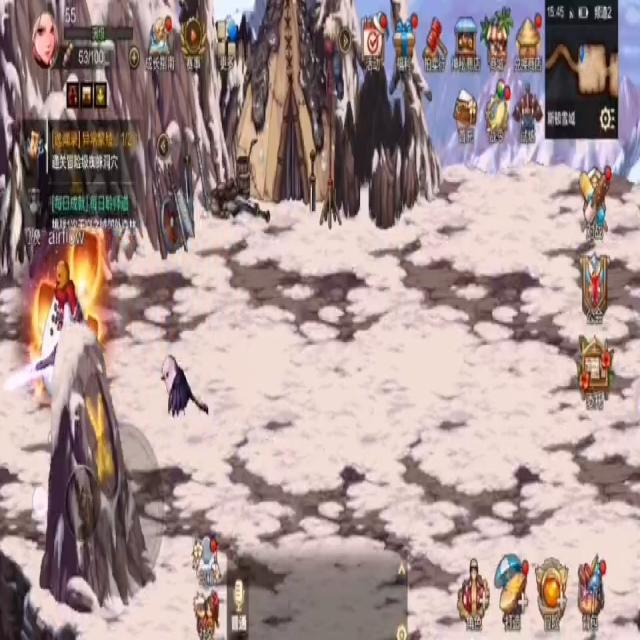player: (36, 257, 86, 419)
